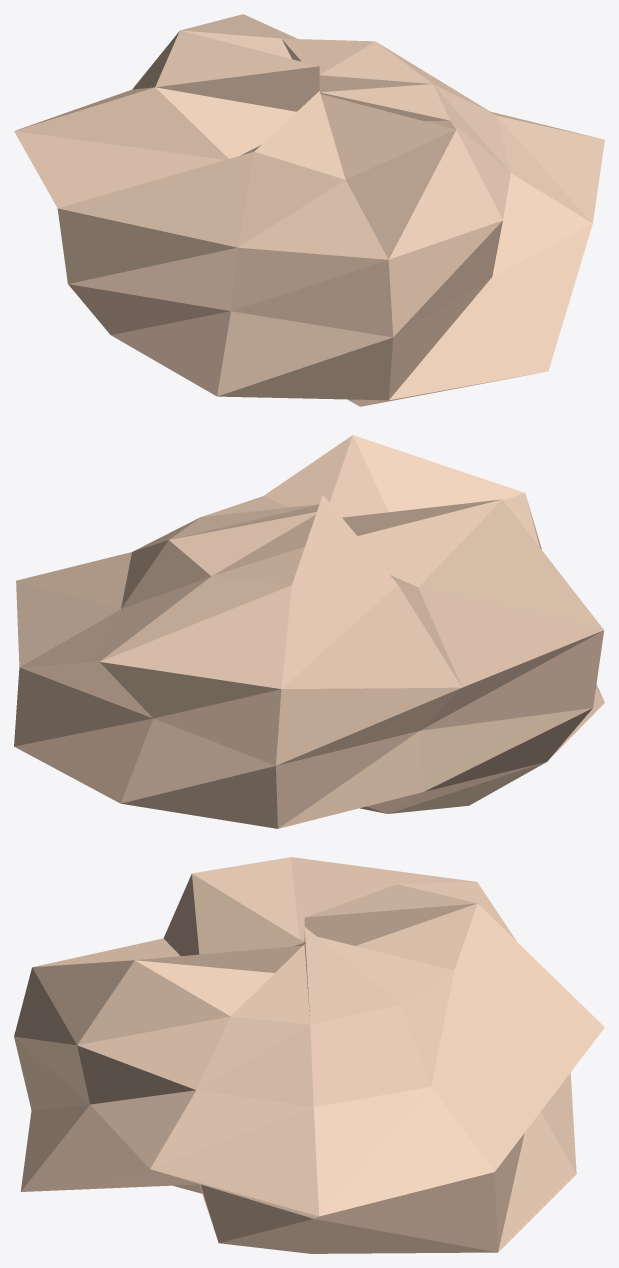
File: rock_053.obj
3 views of the same model, one above another, from view 1: azimuth 30°, elevation 25°; view 2: azimuth 150°, elevation 25°; view 3: azimuth 270°, elevation 25° (orthographic). The views are drawn at different scales.
Size of the model in its own units: 1.12 by 0.5687 by 0.9971.
